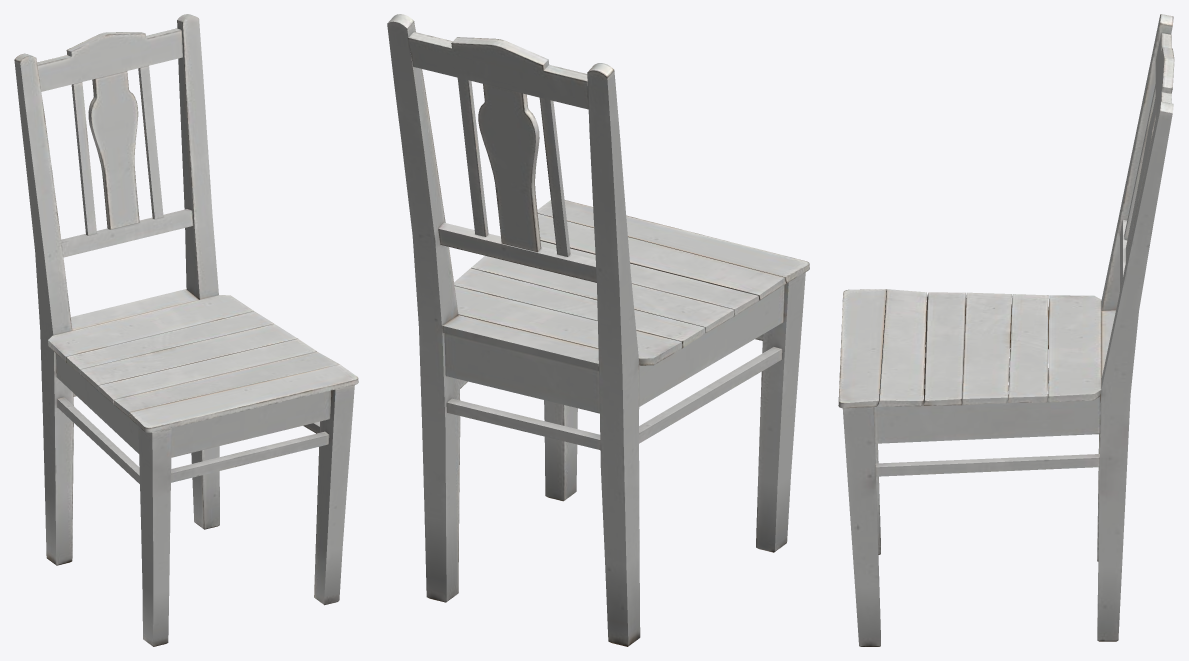
Rendered from dining_chair.glb.
3 renders of one model, left to right at view 1: azimuth 30°, elevation 25°; view 2: azimuth 150°, elevation 25°; view 3: azimuth 270°, elevation 25°, orthographic. The views are drawn at different scales.
Visible parts, largest first — view 1: painted_wooden_chair_01; view 2: painted_wooden_chair_01; view 3: painted_wooden_chair_01.
Part boxes in pixels (bbox=[...]): painted_wooden_chair_01: bbox=[14, 14, 358, 646]; painted_wooden_chair_01: bbox=[387, 14, 809, 646]; painted_wooden_chair_01: bbox=[838, 14, 1174, 646].
Size of the model in its own units: 0.4318 by 0.9565 by 0.5398.
Materials: 1 (1 with a texture image).
